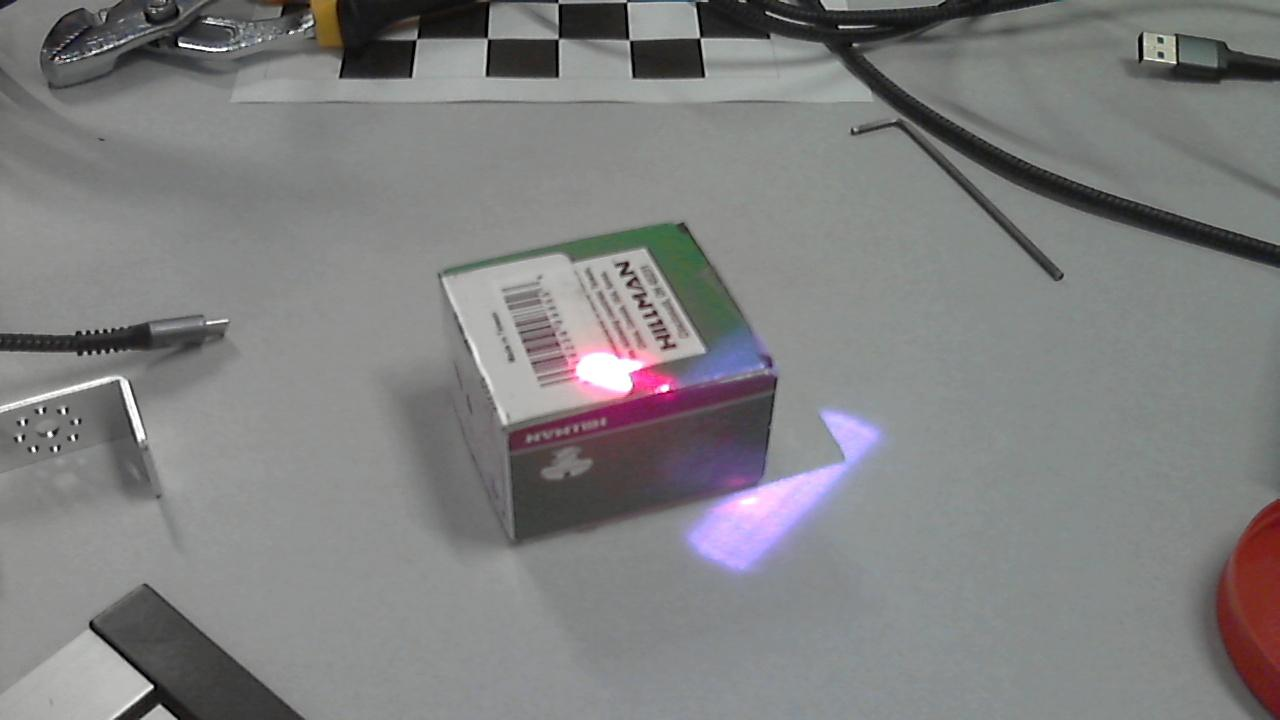Object screw packaging box - Material cardboard - Pdfname VgpKnmoKJfrS: (507, 312, 752, 496)
